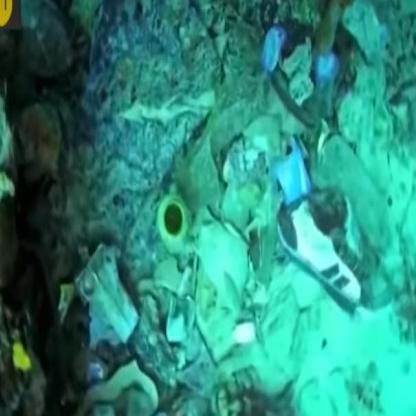misc: (267, 186, 383, 348), (130, 164, 209, 276)
